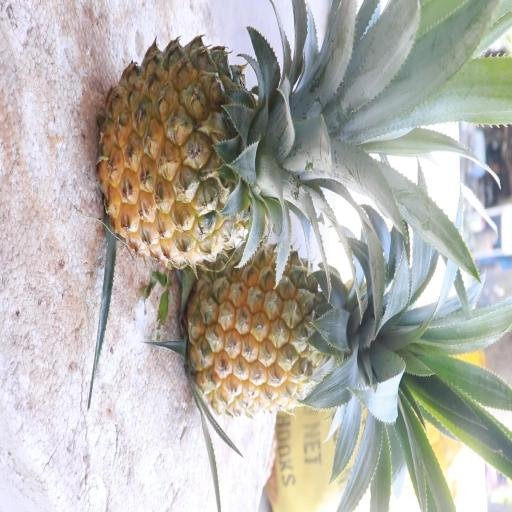Pineapple - v8 v1: (94, 27, 339, 268), (180, 236, 393, 424)
